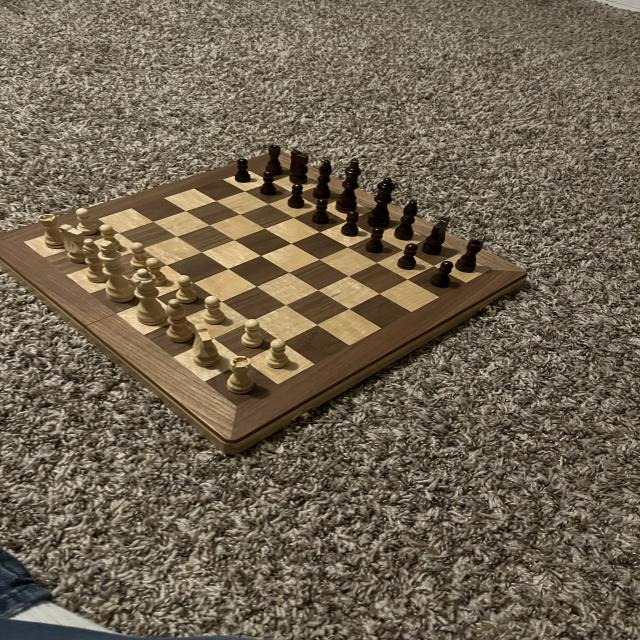bishop: (392, 197, 423, 241), (311, 158, 335, 202)
black-bishop: (332, 157, 366, 215)
black-king: (420, 216, 450, 257), (288, 148, 312, 185)
black-knight: (338, 209, 363, 238), (284, 181, 308, 211), (430, 260, 454, 288), (396, 242, 419, 271), (366, 226, 386, 256), (312, 197, 332, 225), (233, 158, 253, 185), (260, 170, 278, 197)
black-pawn: (365, 176, 397, 229)
black-queen: (454, 237, 482, 274), (262, 143, 285, 176)
black-rook: (78, 235, 112, 285), (162, 298, 198, 344)
white-bishop: (97, 239, 139, 303)
white-king: (192, 323, 222, 371), (58, 222, 90, 264)
white-knight: (237, 317, 268, 350), (173, 274, 200, 305), (264, 338, 290, 370), (202, 294, 228, 325), (127, 240, 152, 270), (142, 256, 167, 286), (96, 223, 121, 251), (75, 206, 98, 236)
white-pawn: (129, 268, 168, 326)
white-queen: (36, 212, 69, 250), (227, 354, 256, 396)
